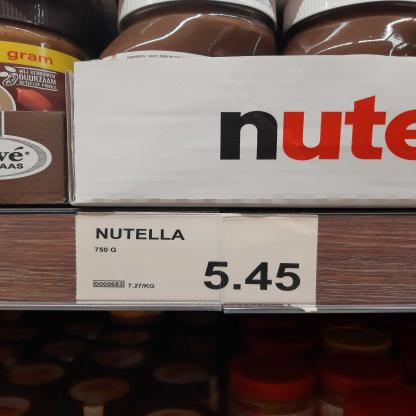prtg: (78, 215, 319, 306)
